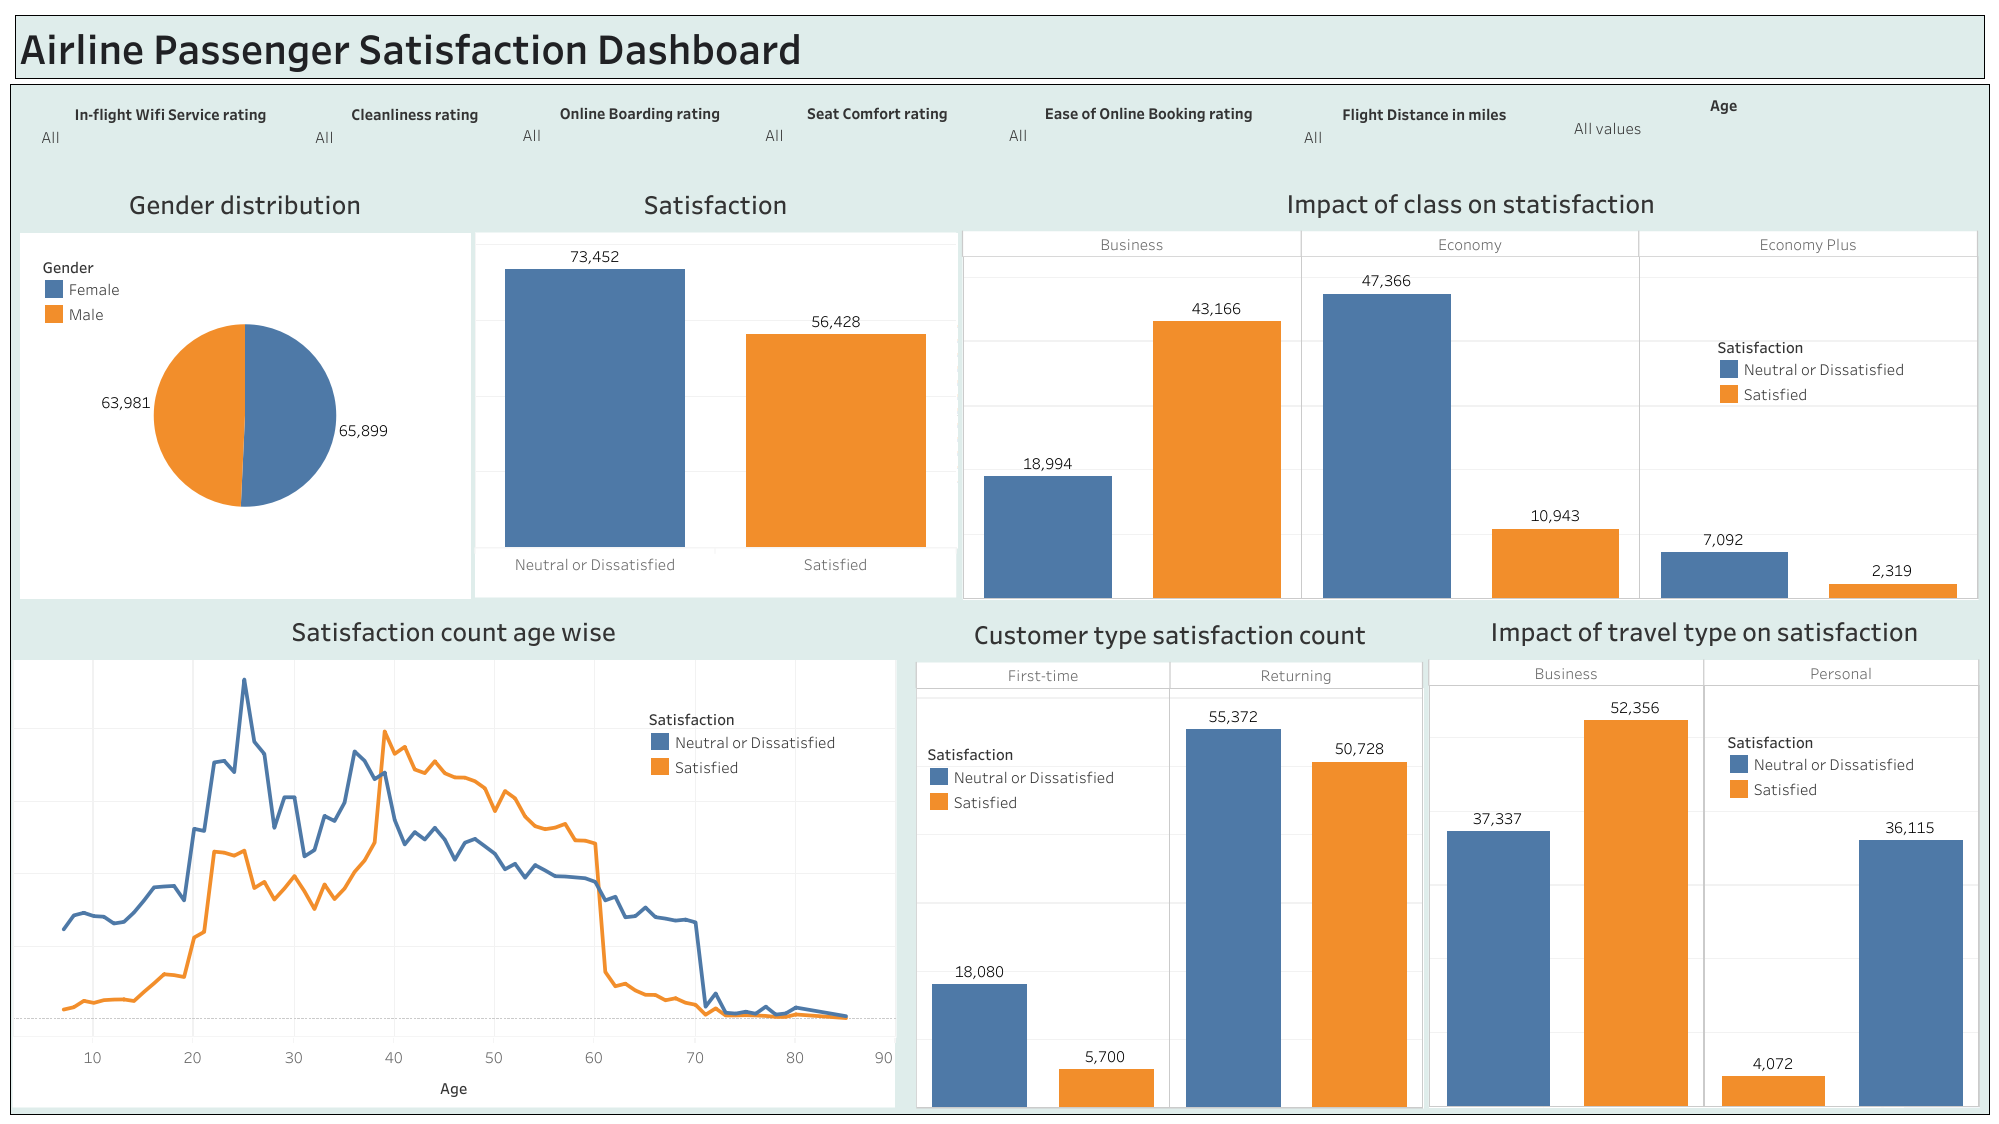

The dashboard page shown, as its layout file describes it:
{"tool":"tableau","page":{"name":"Dashboard 1","canvas":[1600,900],"ordinal":0},"visuals":[{"type":"title","box":[8,8,1584,62]},{"type":"filter","title":"Age group satisfaction","param":"[federated.1ygplos1mnvsqd10p5ri31suvzb3].[Inflight wifi service (group)]","box":[18,77,212,72]},{"type":"filter","title":"Age group satisfaction","param":"[federated.1ygplos1mnvsqd10p5ri31suvzb3].[Cleanliness (group)]","box":[242,77,209,72]},{"type":"filter","title":"Age group satisfaction","param":"[federated.1ygplos1mnvsqd10p5ri31suvzb3].[Online boarding (group)]","box":[471,77,178,69]},{"type":"filter","title":"Age group satisfaction","param":"[federated.1ygplos1mnvsqd10p5ri31suvzb3].[Ease of Online booking (group)]","box":[1080,77,230,72]},{"type":"filter","title":"Age group satisfaction","param":"[federated.1ygplos1mnvsqd10p5ri31suvzb3].[none:Age:qk]","box":[1337,79,249,69]},{"type":"filter","title":"Age group satisfaction","param":"[federated.1ygplos1mnvsqd10p5ri31suvzb3].[Seat comfort (group)]","box":[673,80,172,70]},{"type":"filter","title":"Age group satisfaction","param":"[federated.1ygplos1mnvsqd10p5ri31suvzb3].[none:Arrival Delay in Minutes:ok]","box":[869,80,191,70]},{"type":"worksheet","title":"Gender Distribution","mark":"Pie","box":[14,161,282,418]},{"type":"worksheet","title":"Type of travel distribution","mark":"Automatic","rows":["Type of Travel"],"cols":["Type of Travel"],"box":[301,161,332,418]},{"type":"worksheet","title":"Impact of class on statisfaction","mark":"Automatic","rows":["satisfaction"],"cols":["Class","satisfaction"],"box":[637,162,954,276]},{"type":"legend","title":"Gender Distribution","param":"[federated.1ygplos1mnvsqd10p5ri31suvzb3].[none:Gender:nk]","box":[39,233,140,64]},{"type":"legend","title":"Impact of class on statisfaction","param":"[federated.1ygplos1mnvsqd10p5ri31suvzb3].[none:satisfaction:nk]","box":[1360,260,184,64]},{"type":"worksheet","title":"Customer type satisfaction","mark":"Automatic","rows":["satisfaction"],"cols":["Customer Type","satisfaction"],"box":[638,441,476,445]},{"type":"worksheet","title":"Impact of travel type on statisfaction","mark":"Automatic","rows":["satisfaction"],"cols":["Type of Travel","satisfaction"],"box":[1119,441,474,445]},{"type":"legend","title":"Impact of travel type on statisfaction","param":"[federated.1ygplos1mnvsqd10p5ri31suvzb3].[none:satisfaction:nk]","box":[1395,530,184,64]},{"type":"legend","title":"Customer type satisfaction","param":"[federated.1ygplos1mnvsqd10p5ri31suvzb3].[none:satisfaction:nk]","box":[664,560,184,64]},{"type":"worksheet","title":"Age group satisfaction","mark":"Automatic","rows":["satisfaction"],"cols":["Age"],"box":[16,583,618,302]},{"type":"legend","title":"Age group satisfaction","param":"[federated.1ygplos1mnvsqd10p5ri31suvzb3].[none:satisfaction:nk]","box":[428,648,196,76]}]}

Visuals, with their boxes in screenshot pixels (x1, y1, x2, y2), scaled from the page's 1600x900 canvas onto the 1999x1124 screenshot:
title: box=[10, 10, 1989, 87]
"Age group satisfaction" filter: box=[22, 96, 287, 186]
"Age group satisfaction" filter: box=[302, 96, 563, 186]
"Age group satisfaction" filter: box=[588, 96, 811, 182]
"Age group satisfaction" filter: box=[1349, 96, 1637, 186]
"Age group satisfaction" filter: box=[1670, 99, 1982, 185]
"Age group satisfaction" filter: box=[841, 100, 1056, 187]
"Age group satisfaction" filter: box=[1086, 100, 1324, 187]
"Gender Distribution" worksheet (Pie marks): box=[17, 201, 370, 723]
"Type of travel distribution" worksheet: box=[376, 201, 791, 723]
"Impact of class on statisfaction" worksheet: box=[796, 202, 1988, 547]
"Gender Distribution" legend: box=[49, 291, 224, 371]
"Impact of class on statisfaction" legend: box=[1699, 325, 1929, 405]
"Customer type satisfaction" worksheet: box=[797, 551, 1392, 1107]
"Impact of travel type on statisfaction" worksheet: box=[1398, 551, 1990, 1107]
"Impact of travel type on statisfaction" legend: box=[1743, 662, 1973, 742]
"Customer type satisfaction" legend: box=[830, 699, 1059, 779]
"Age group satisfaction" worksheet: box=[20, 728, 792, 1105]
"Age group satisfaction" legend: box=[535, 809, 780, 904]
